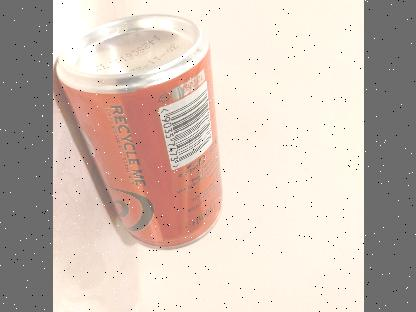Can: (52, 14, 222, 250)
